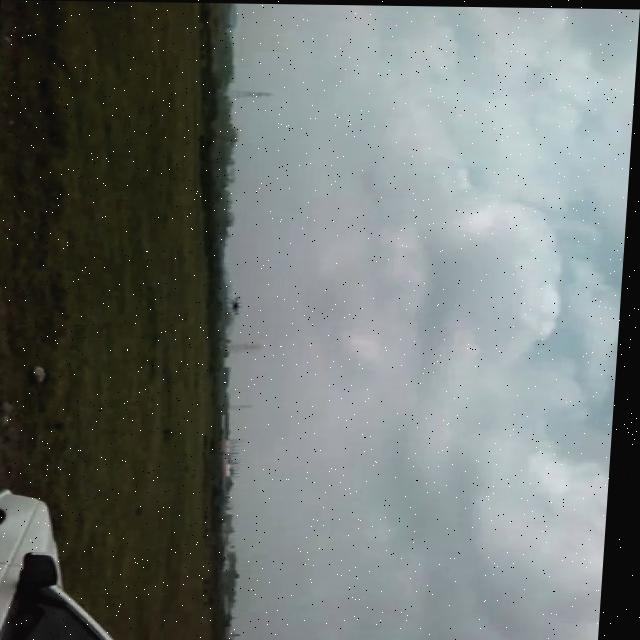drone: (227, 292, 253, 318)
